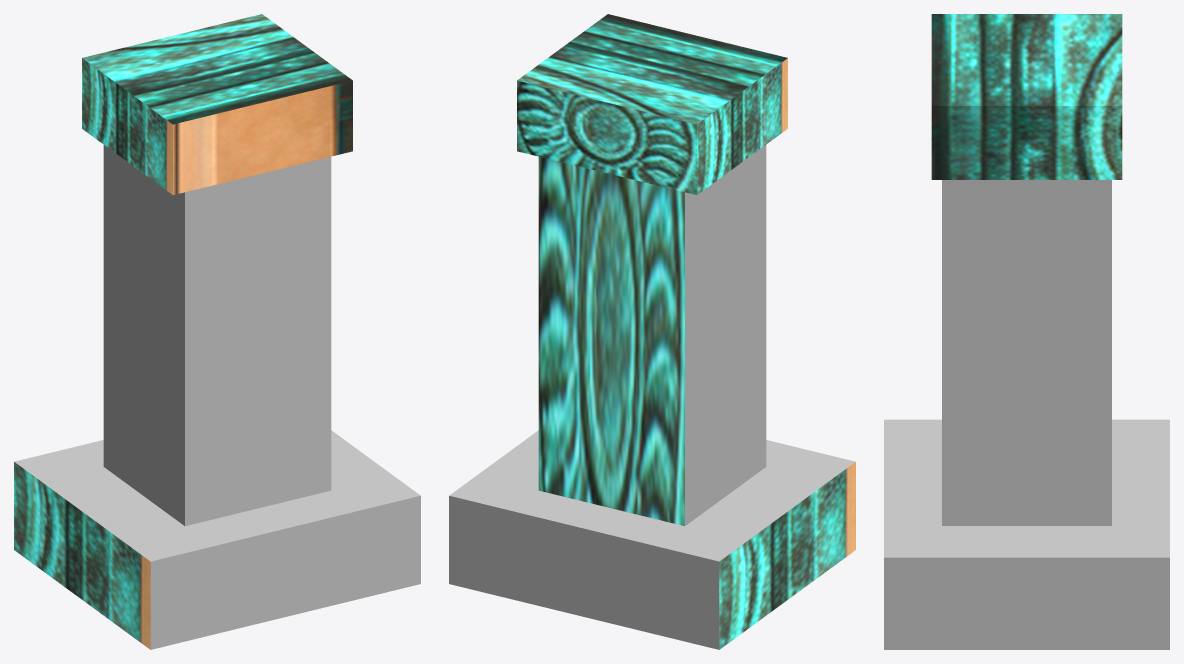
Rendered from SM_AF_Wayfinder_A_LOD1.glb.
3 views of the same model, side by side, from view 1: azimuth 30°, elevation 25°; view 2: azimuth 150°, elevation 25°; view 3: azimuth 270°, elevation 25° (orthographic). The views are drawn at different scales.
Visible parts, largest first — view 1: SM_AF_Wayfinder_A_LOD1; view 2: SM_AF_Wayfinder_A_LOD1; view 3: SM_AF_Wayfinder_A_LOD1.
Part boxes in pixels (bbox=[...]): SM_AF_Wayfinder_A_LOD1: bbox=[14, 14, 420, 649]; SM_AF_Wayfinder_A_LOD1: bbox=[449, 14, 855, 649]; SM_AF_Wayfinder_A_LOD1: bbox=[884, 14, 1169, 649].
Size of the model in its own units: 0.96 by 1.69 by 0.84.
Materials: 2 (1 with a texture image).
